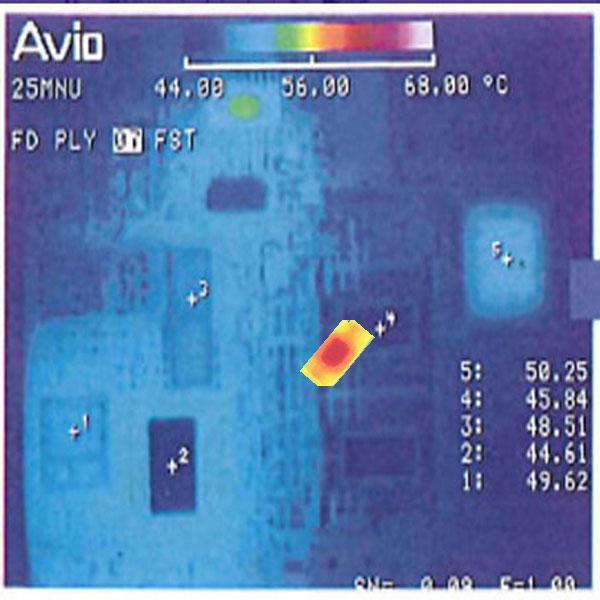componente_T: (296, 317, 377, 387), (283, 22, 358, 51)
